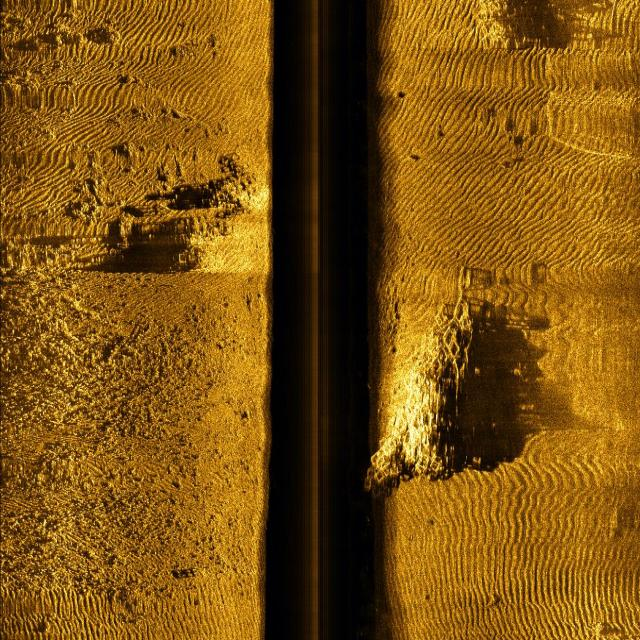artificial reef: (361, 271, 490, 497)
